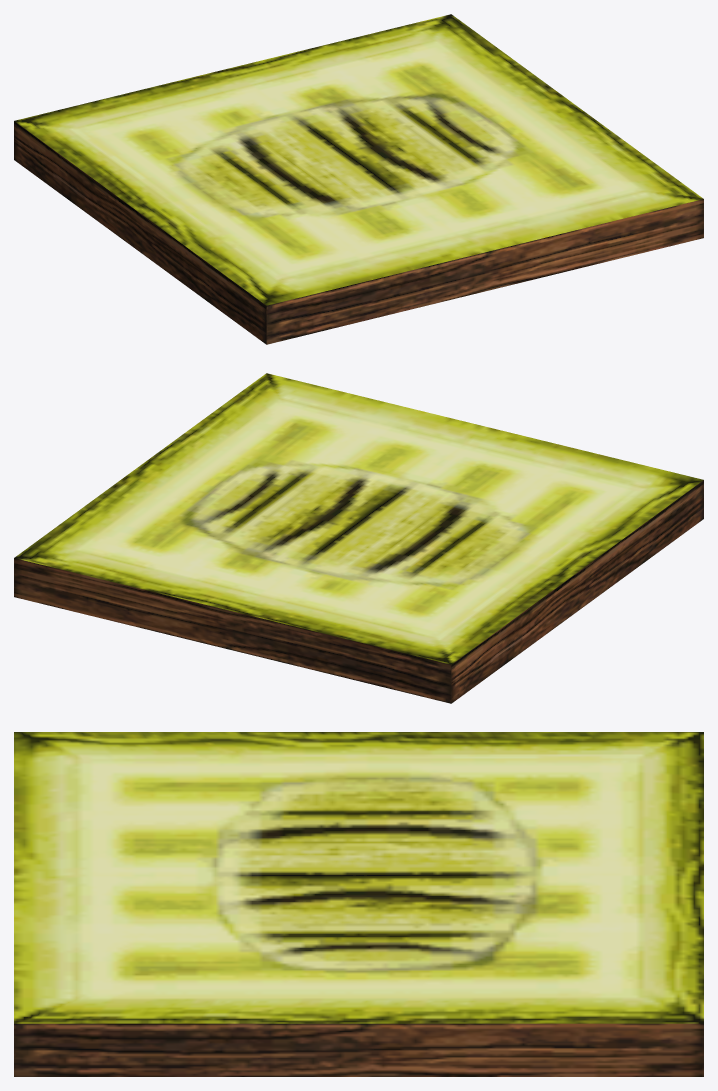
The model's file is INST_LT_PPLATEHVY_ON.fbx.
3 renders of one model, top to bottom at view 1: azimuth 30°, elevation 25°; view 2: azimuth 150°, elevation 25°; view 3: azimuth 270°, elevation 25°, orthographic. The views are drawn at different scales.
Visible parts, largest first — view 1: INST_LT_PPLATEHVY_ON; view 2: INST_LT_PPLATEHVY_ON; view 3: INST_LT_PPLATEHVY_ON.
Boxes of the visible parts, left/top/right/bottom form: INST_LT_PPLATEHVY_ON: left=14, top=14, right=703, bottom=344; INST_LT_PPLATEHVY_ON: left=14, top=373, right=703, bottom=703; INST_LT_PPLATEHVY_ON: left=14, top=732, right=703, bottom=1076.
Size of the model in its own units: 20000 by 1705 by 20000.
2 materials, 2 textured.
